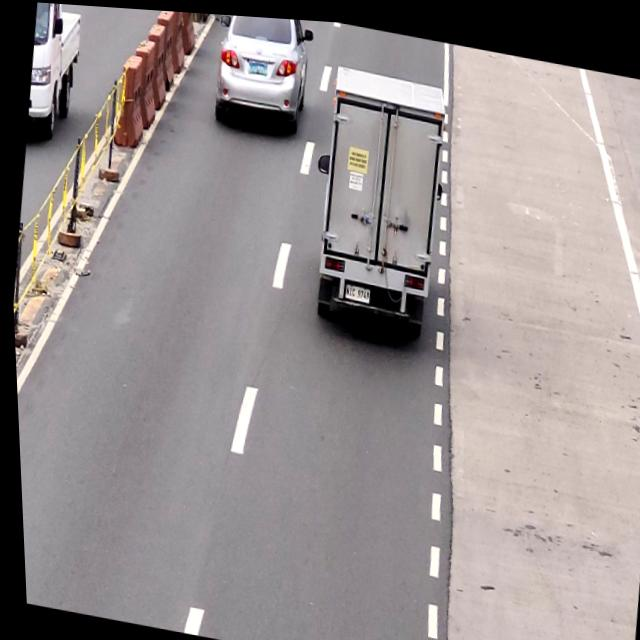Car: (205, 11, 317, 135)
License-Plate: (339, 274, 369, 302), (245, 56, 268, 74)
Truck: (300, 57, 455, 328)
